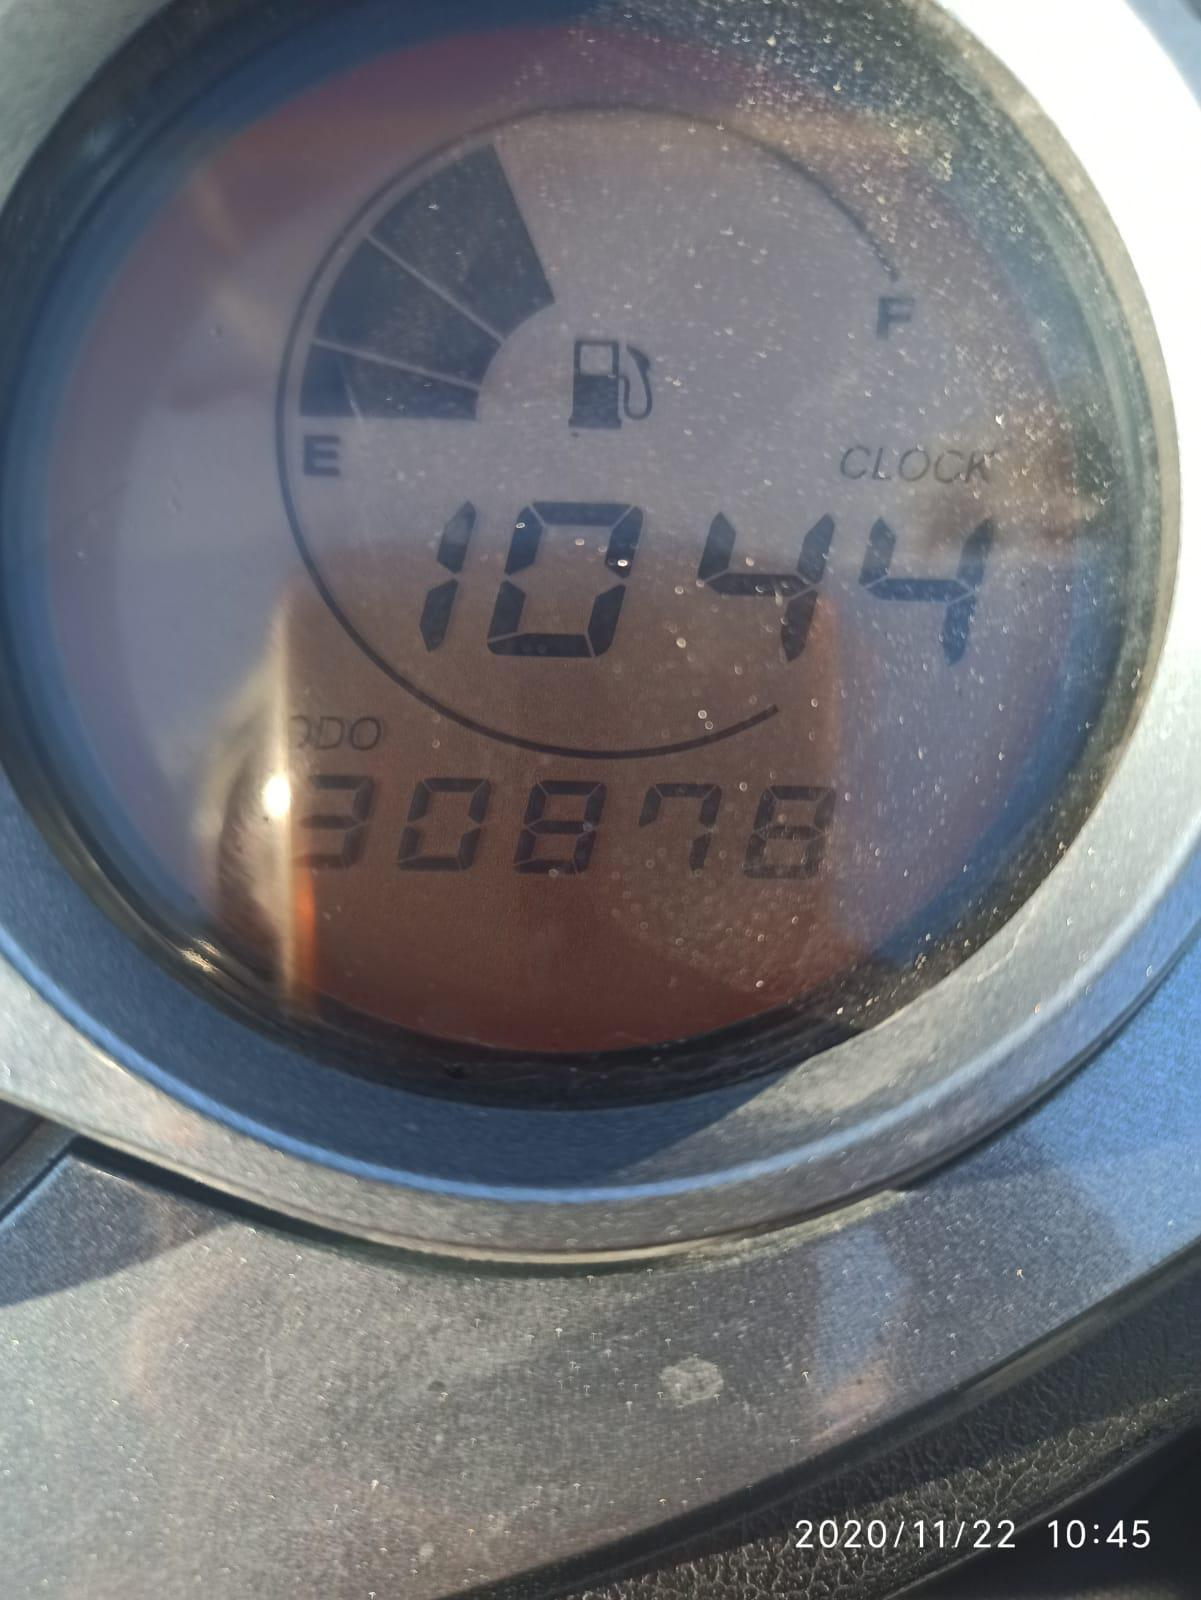0: (493, 497, 648, 662), (392, 775, 493, 871)
1: (410, 493, 474, 654)
3: (285, 774, 376, 871)
4: (695, 507, 836, 666), (862, 514, 993, 669)
7: (635, 779, 724, 873)
8: (739, 782, 836, 882), (511, 777, 608, 874)
X: (299, 426, 344, 483), (873, 290, 915, 341), (347, 714, 384, 753), (280, 714, 313, 752), (838, 443, 870, 481), (313, 714, 344, 752), (896, 448, 931, 481), (934, 449, 963, 482), (966, 449, 995, 482), (870, 445, 894, 483)
odometer: (5, 16, 1098, 1073)
